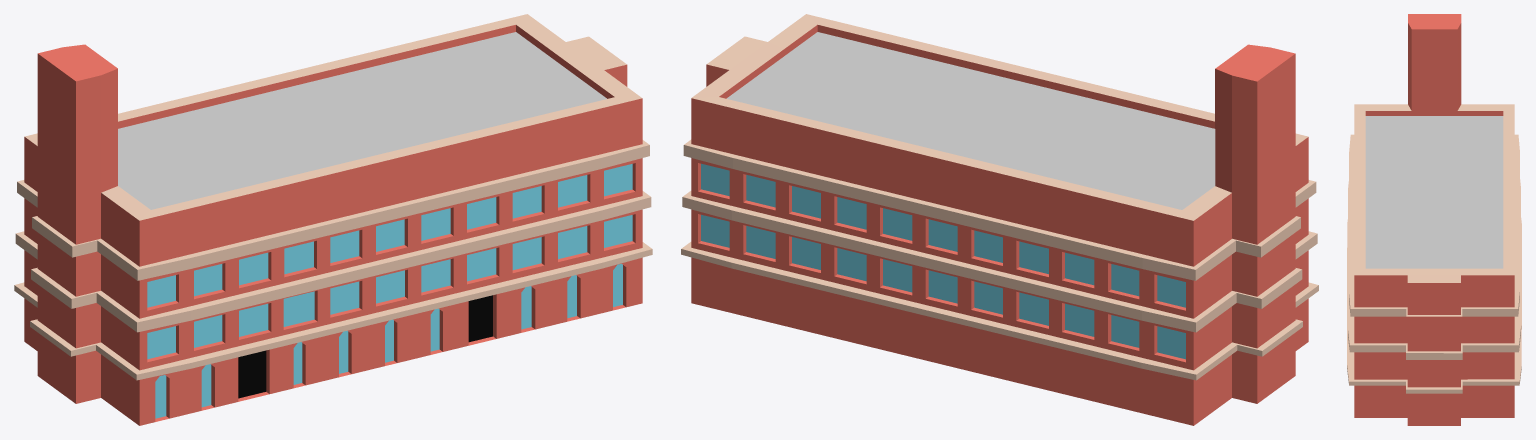
File: Building_04.fbx
3 views of the same model, side by side, from view 1: azimuth 30°, elevation 25°; view 2: azimuth 150°, elevation 25°; view 3: azimuth 270°, elevation 25° (orthographic). The views are drawn at different scales.
Visible parts, largest first — view 1: Building_13; view 2: Building_13; view 3: Building_13.
Part boxes in pixels (x1=…): Building_13: x1=14, y1=14, x2=652, y2=425; Building_13: x1=681, y1=14, x2=1318, y2=425; Building_13: x1=1347, y1=14, x2=1521, y2=425.
Size of the model in its own units: 10301 by 5631 by 3974.
